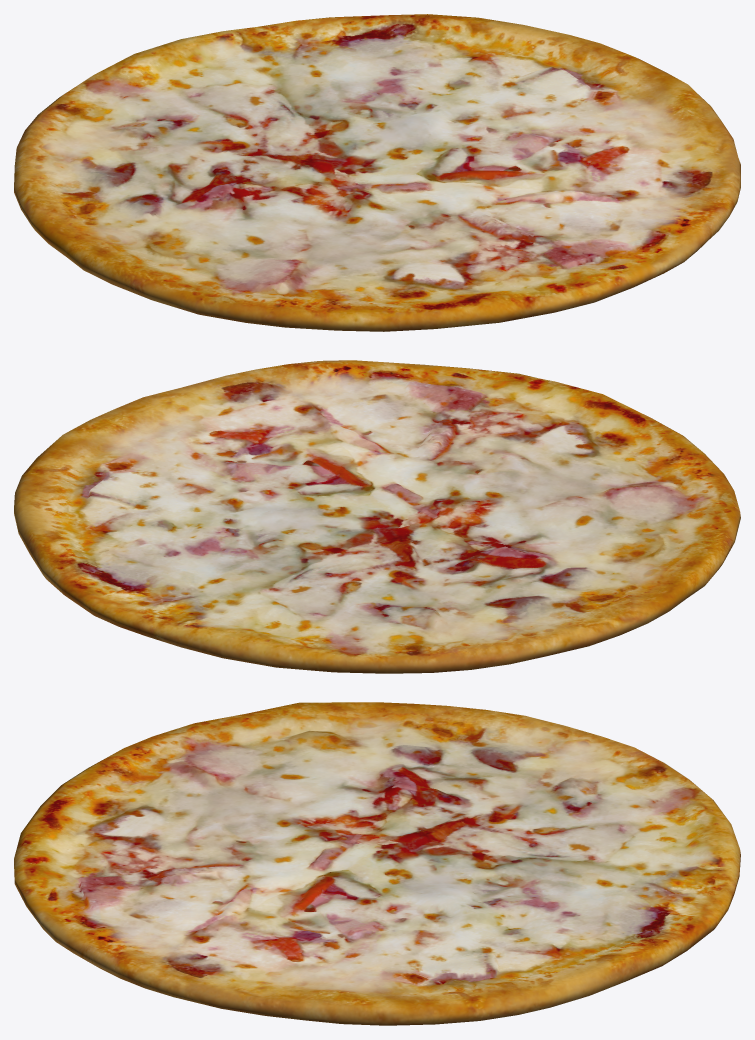
Rendered from pizza (2).glb.
3 renders of one model, top to bottom at view 1: azimuth 30°, elevation 25°; view 2: azimuth 150°, elevation 25°; view 3: azimuth 270°, elevation 25°, orthographic.
Visible parts, largest first — view 1: Pizza; view 2: Pizza; view 3: Pizza.
Part boxes in pixels (left/top/right/bottom): Pizza: left=14, top=14, right=740, bottom=331; Pizza: left=14, top=360, right=740, bottom=673; Pizza: left=14, top=702, right=740, bottom=1025.
Bounding box in the file's own units: 0.3908 × 0.0113 × 0.3853.
1 material, 1 textured.
